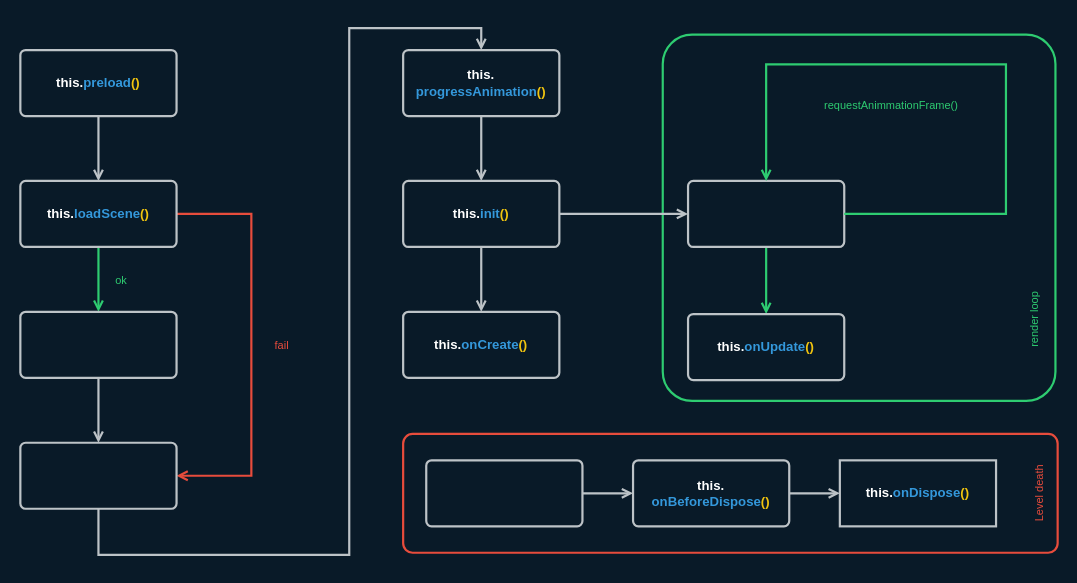
Some shapes in this 1077 by 583 pixel diagram are drawn without their labels. Each missing label, with the centre of its shape:
this. dispose (): (504,493)
this. load (): (98,475)
this. parseScene (): (98,344)
this. render (): (765,213)
